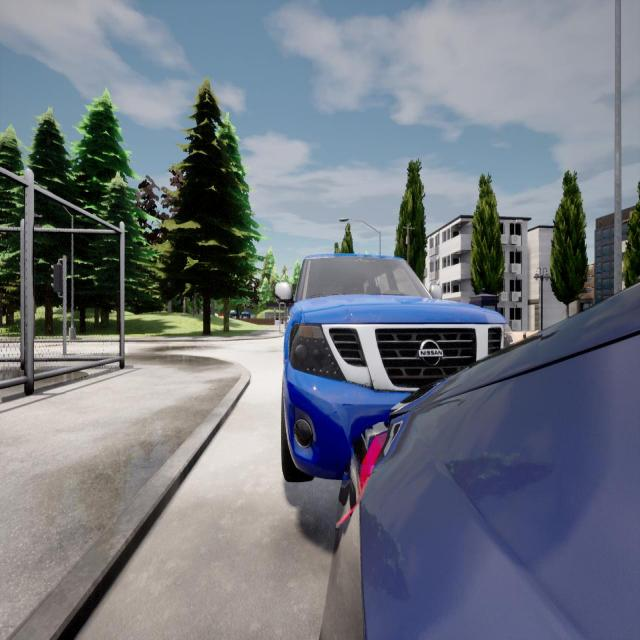Vehicle: (321, 286, 640, 640), (281, 255, 512, 480)
traffic_light: (51, 265, 63, 293)
